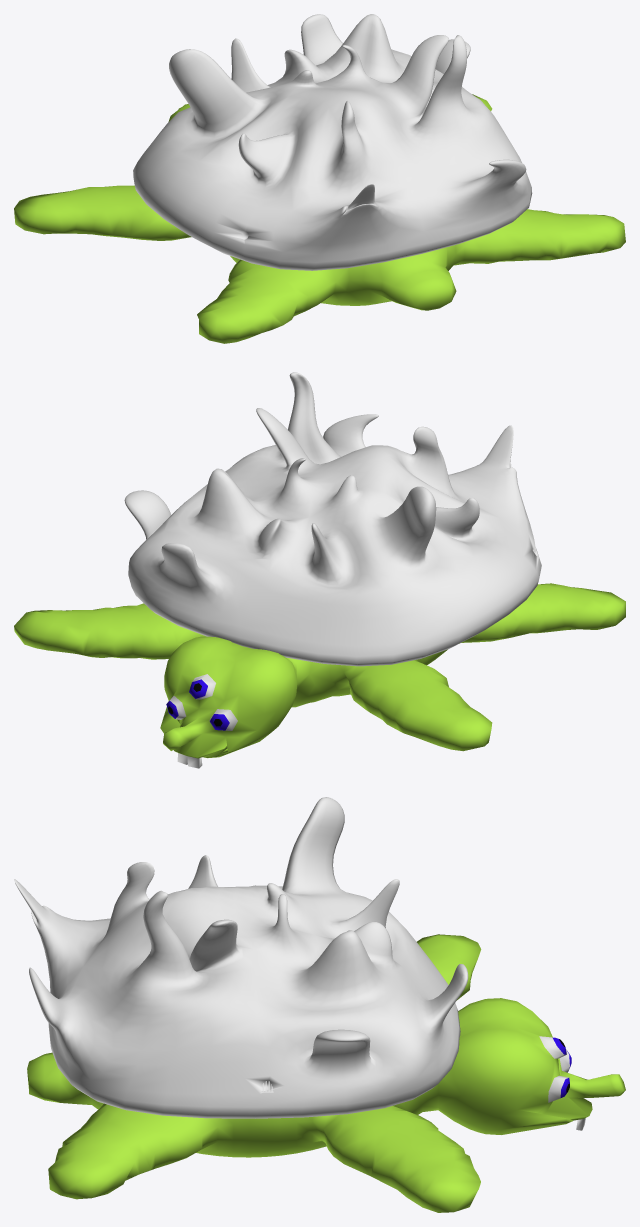
File: Turtursbob Squareshell.fbx
3 views of the same model, one above another, from view 1: azimuth 30°, elevation 25°; view 2: azimuth 150°, elevation 25°; view 3: azimuth 270°, elevation 25° (orthographic). The views are drawn at different scales.
Parts seen in each view (by area): view 1: Cube, Mball.018; view 2: Cube, Mball.018; view 3: Cube, Mball.018.
Boxes of the visible parts, x1,y1,x2,y2 form: Cube: [133, 14, 532, 270]; Mball.018: [14, 94, 625, 343]; Cube: [124, 372, 541, 666]; Mball.018: [14, 583, 625, 768]; Cube: [14, 797, 468, 1118]; Mball.018: [27, 934, 625, 1212].
Size of the model in its own units: 444 by 228 by 435.
